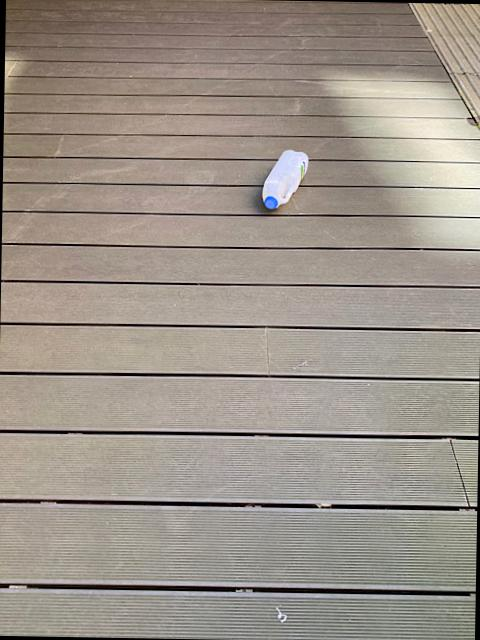plastic: (264, 149, 309, 208)
